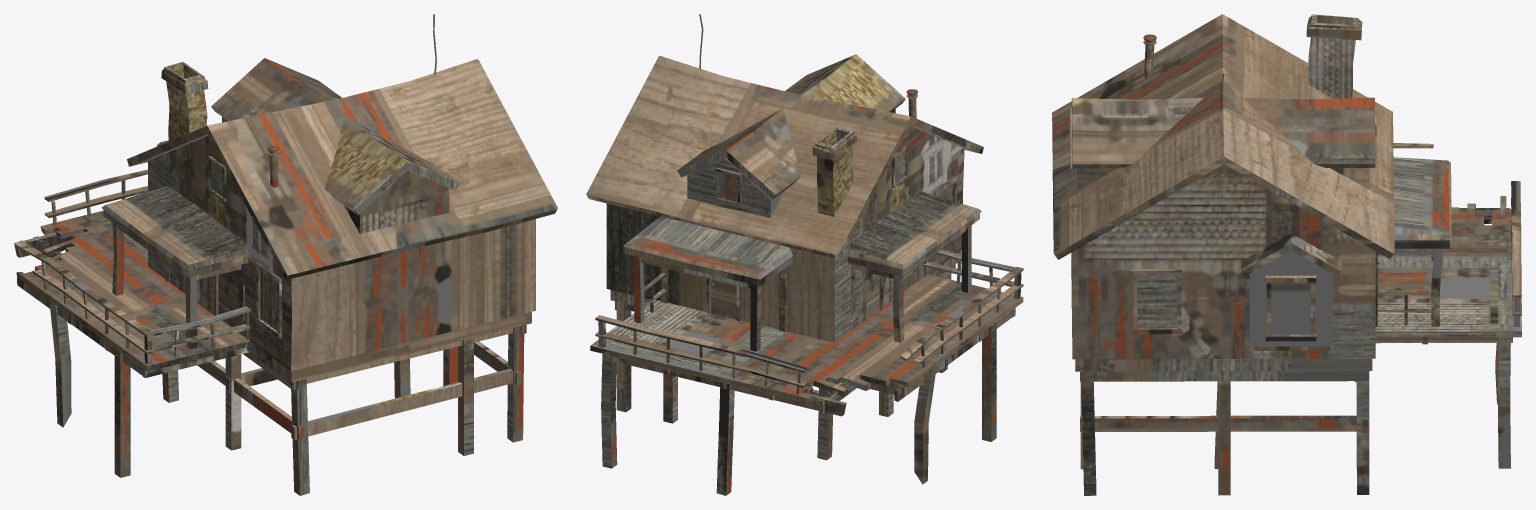
The model's file is house.obj.
3 renders of one model, left to right at view 1: azimuth 30°, elevation 25°; view 2: azimuth 150°, elevation 25°; view 3: azimuth 270°, elevation 25°, orthographic. The views are drawn at different scales.
Visible parts, largest first — view 1: Cube_014; view 2: Cube_014; view 3: Cube_014.
Part boxes in pixels (x1,y1,x2,y2): Cube_014: [14, 14, 557, 495]; Cube_014: [586, 14, 1023, 495]; Cube_014: [1052, 14, 1521, 495].
Bounding box in the file's own units: 79.66 × 78.7 × 81.7.
